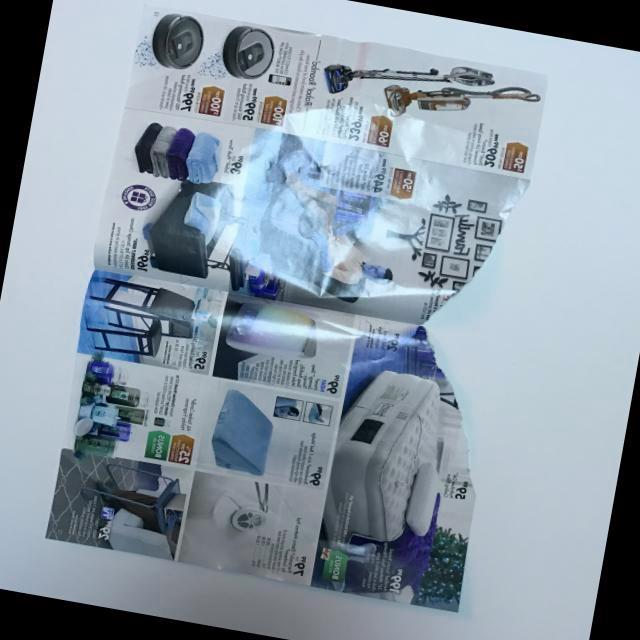paper: (44, 0, 552, 609)
